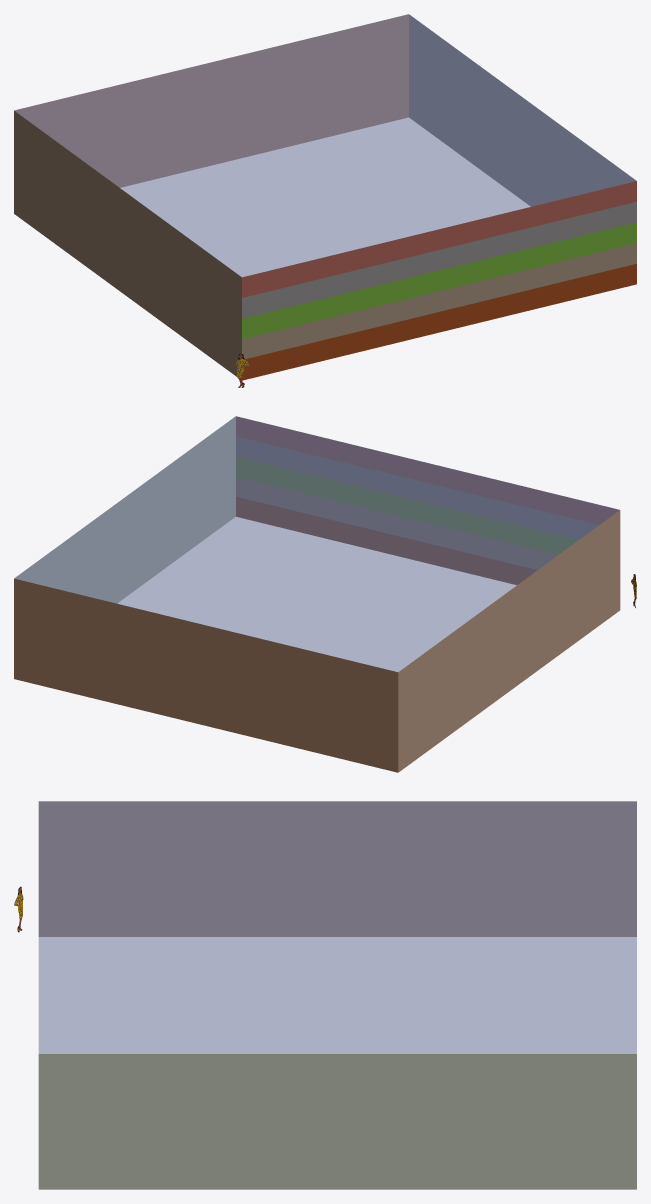
Rendered from Material and scale check.glb.
3 views of the same model, one above another, from view 1: azimuth 30°, elevation 25°; view 2: azimuth 150°, elevation 25°; view 3: azimuth 270°, elevation 25° (orthographic). The views are drawn at different scales.
Parts seen in each view (by area): view 1: Model.1; view 2: Model.1; view 3: Model.1.
Boxes of the visible parts, <box> form: Model.1: <box>14,14,636,380</box>; Model.1: <box>14,416,620,772</box>; Model.1: <box>38,801,636,1189</box>.
Size of the model in its own units: 20.58 by 5 by 20.82.
